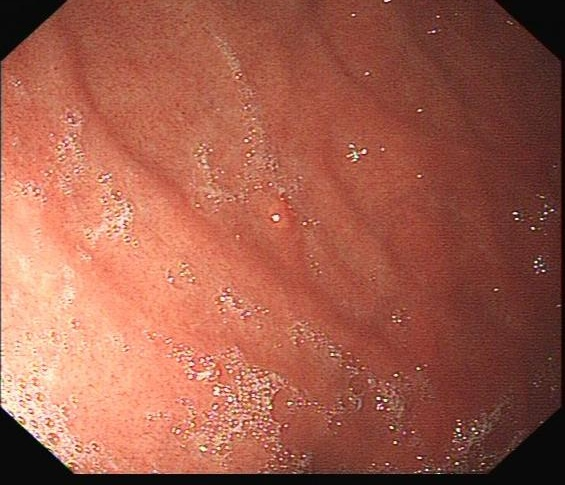Polyp: (254, 189, 322, 255)
